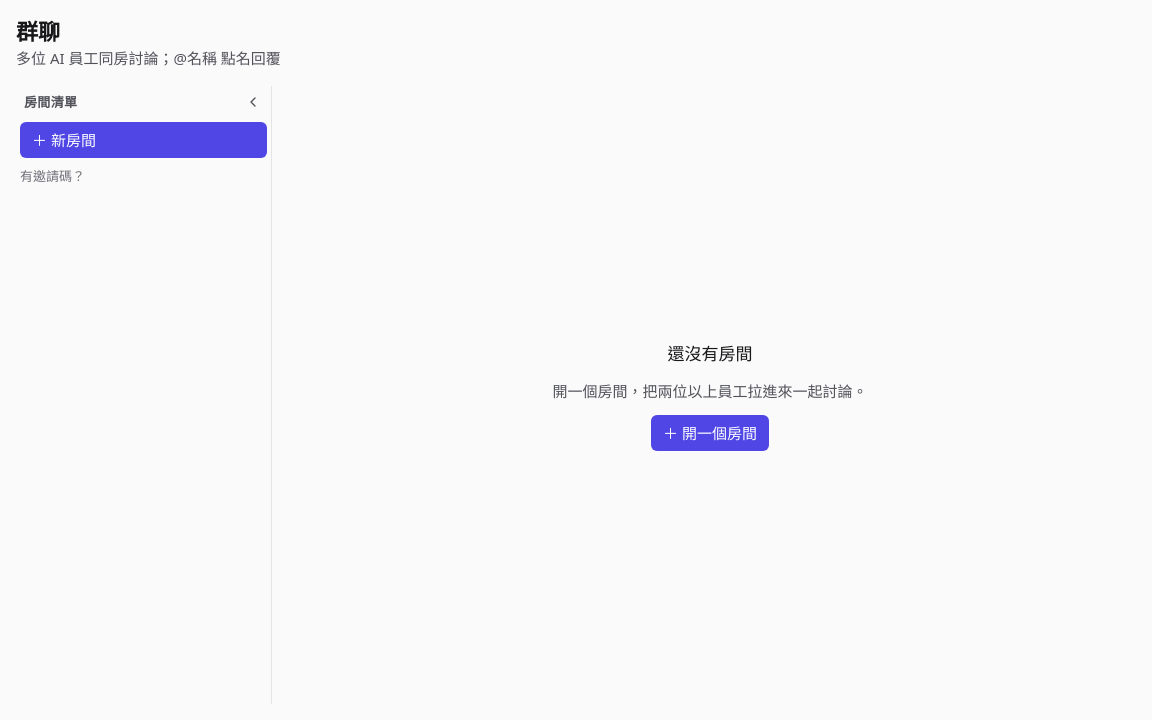
Scenario: 群聊（modules/groupchat） › 老闆模式：清單先是「＋ 新房間」、邀請碼收在「有邀請碼？」後面、空狀態一句話＋按鈕、沒有系統詞
Expected: the text "開一個房間，把兩位以上員工拉進來一起討論。" is shown, left=552, top=378, right=868, bottom=402
Click the button "＋ 開一個房間": (710, 432) left=651, top=414, right=769, bottom=450
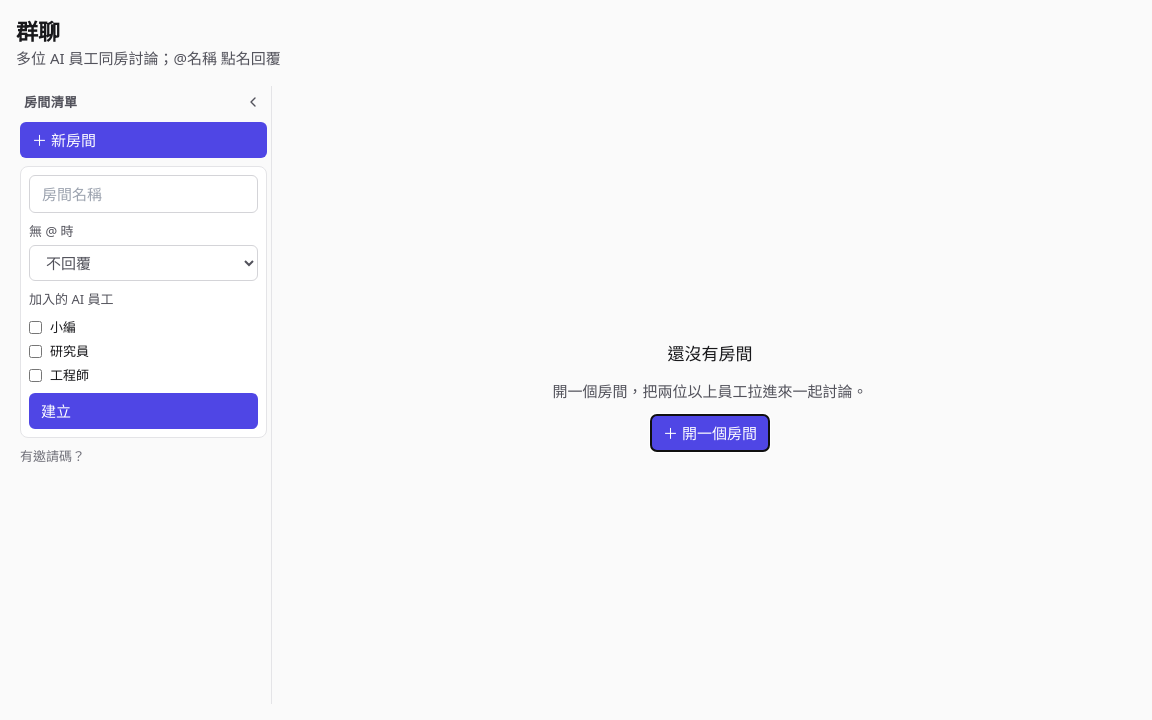
Expected: the form with test id "create-room-form" is shown, left=20, top=166, right=267, bottom=438
Click the button with test id "have-invite": (52, 456) left=20, top=446, right=85, bottom=466
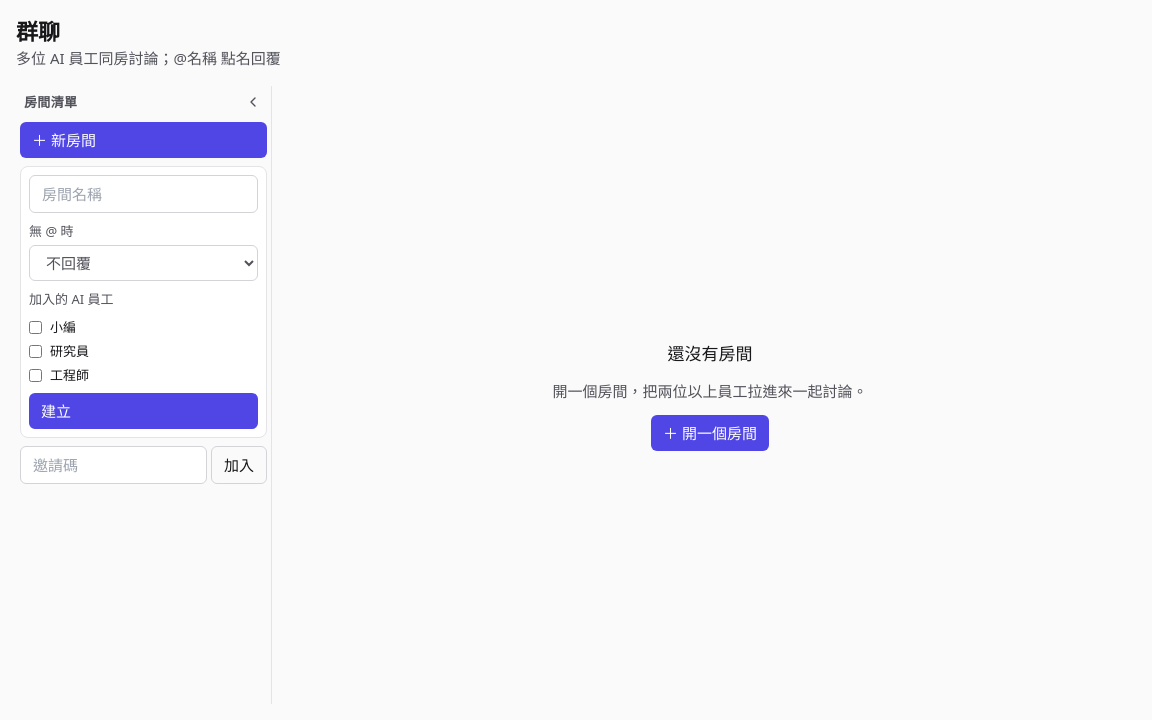
Expected: the field labelled "邀請碼" is shown, left=20, top=446, right=207, bottom=484
